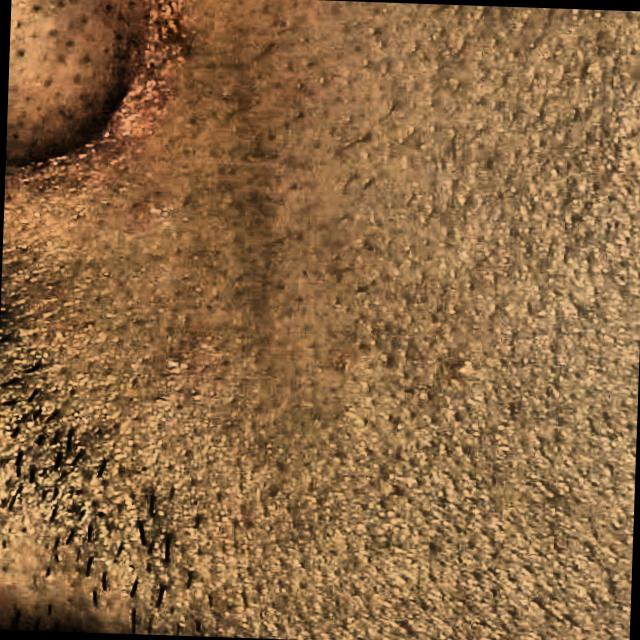whiteheads: (152, 344, 197, 382), (128, 190, 174, 226), (446, 356, 479, 386)
